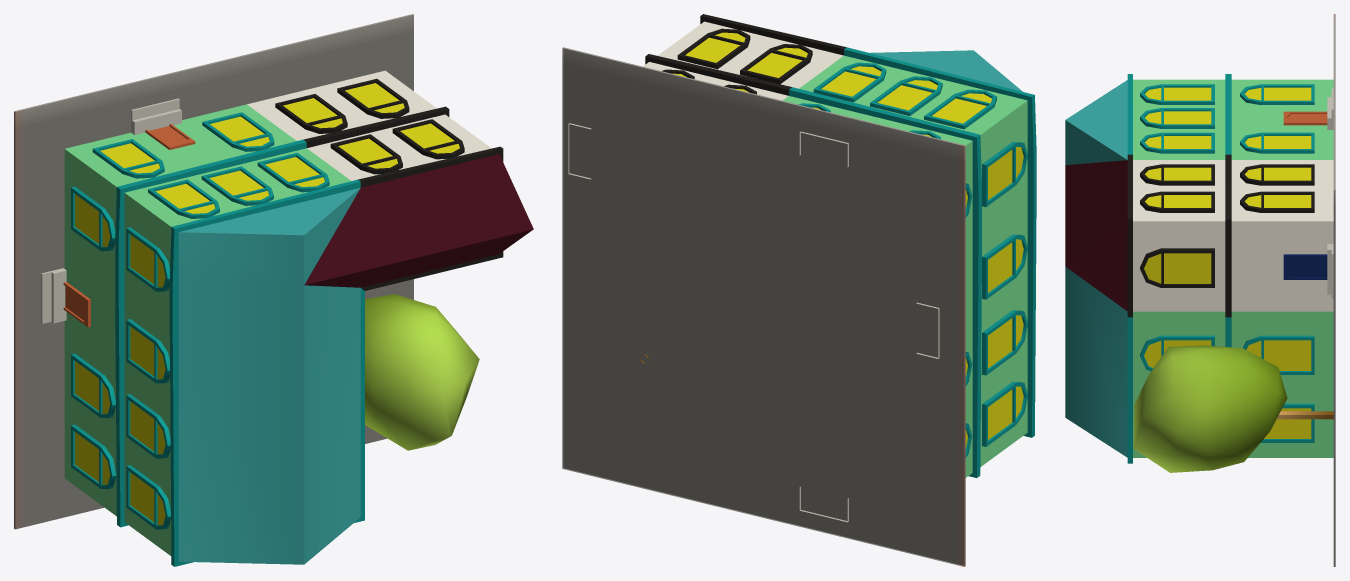
Rendered from Low_Office_04.fbx.
3 renders of one model, left to right at view 1: azimuth 30°, elevation 25°; view 2: azimuth 150°, elevation 25°; view 3: azimuth 270°, elevation 25°, orthographic. The views are drawn at different scales.
Visible parts, largest first — view 1: Low_Office_04; view 2: Low_Office_04; view 3: Low_Office_04.
Boxes of the visible parts, left/top/right/bottom form: Low_Office_04: left=14, top=14, right=533, bottom=566; Low_Office_04: left=562, top=14, right=1036, bottom=566; Low_Office_04: left=1065, top=14, right=1335, bottom=566.
Bounding box in the file's own units: 200 × 200 × 130.
